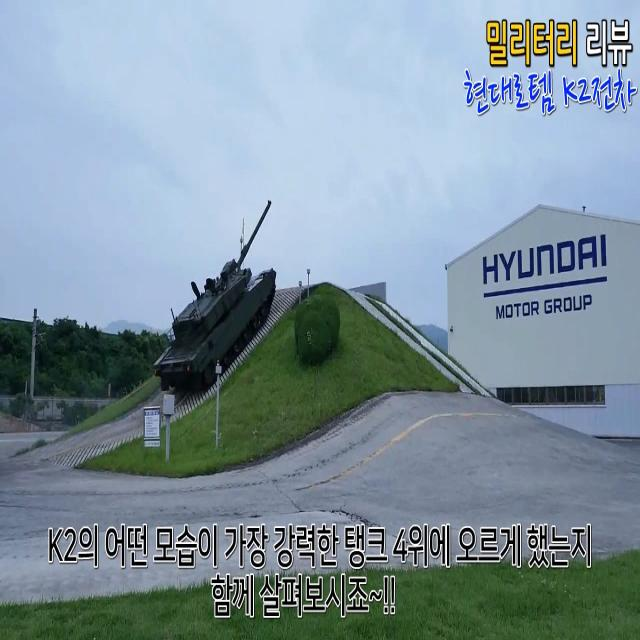korea tank: (149, 192, 281, 400)
